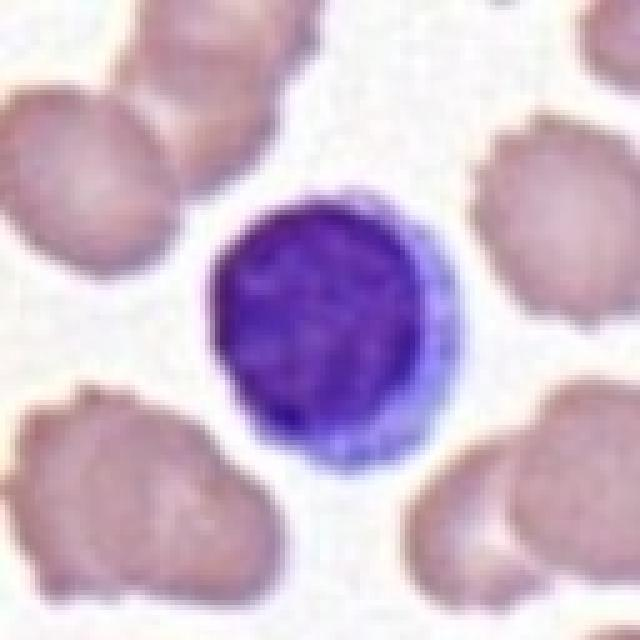lympho: (204, 183, 468, 479)
